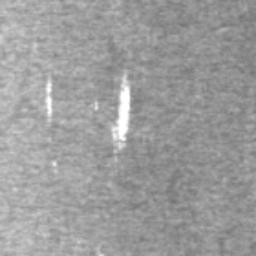White rust: (111, 73, 130, 150), (42, 77, 53, 123)
